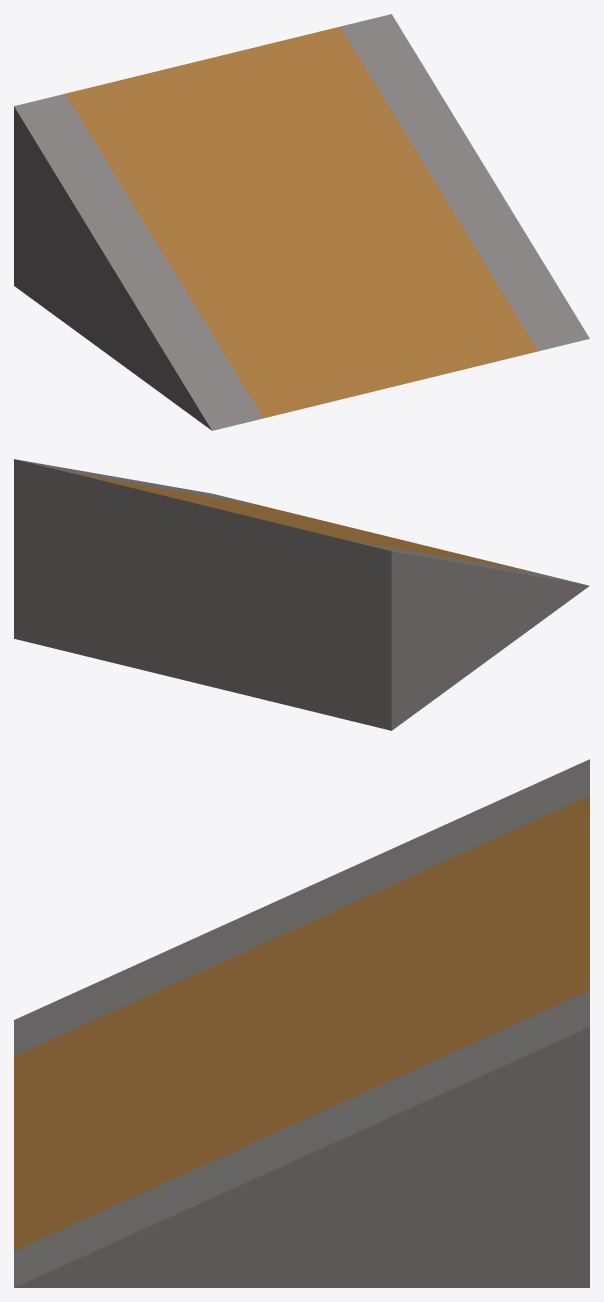
The model's file is japan-slope-japan-small.glb.
The picture shows the model from 3 angles, top to bottom: view 1: azimuth 30°, elevation 25°; view 2: azimuth 150°, elevation 25°; view 3: azimuth 270°, elevation 25°; orthographic projection. The views are drawn at different scales.
Parts seen in each view (by area): view 1: slope-japan_small; view 2: slope-japan_small; view 3: slope-japan_small.
Boxes of the visible parts, x1,y1,x2,y2 form: slope-japan_small: (14, 14, 589, 430); slope-japan_small: (14, 459, 589, 730); slope-japan_small: (14, 759, 589, 1287).
Size of the model in its own units: 11 by 5 by 10.
